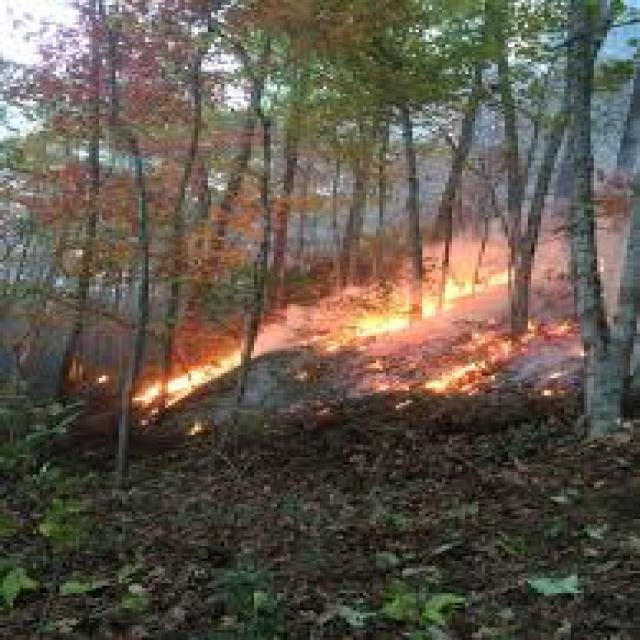Fire: (337, 266, 517, 344), (136, 356, 222, 419), (413, 348, 505, 402), (538, 342, 604, 397), (87, 369, 115, 389)
Smoke: (196, 154, 630, 450)
